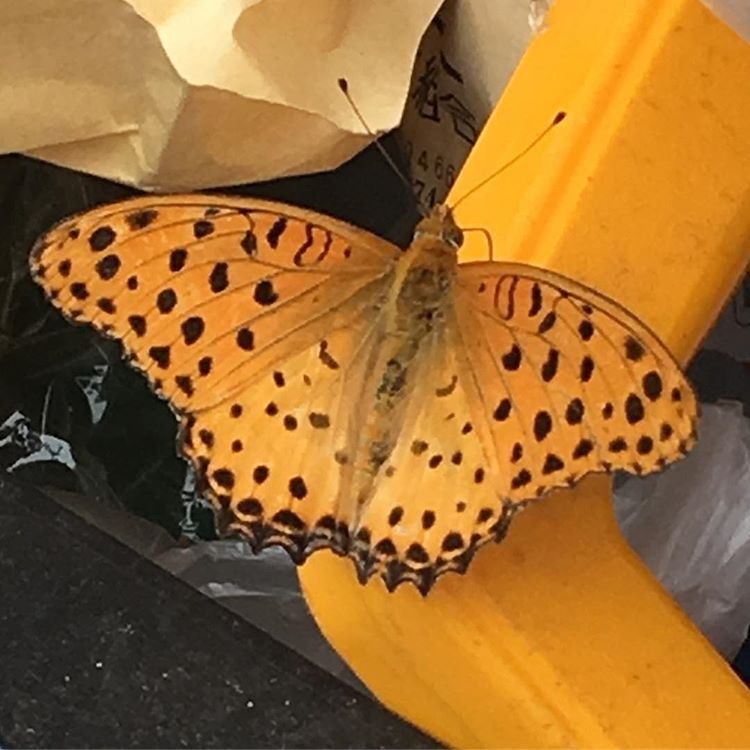Argyreus hyperbius: (23, 63, 711, 595)
butterfly: (25, 65, 713, 597)
